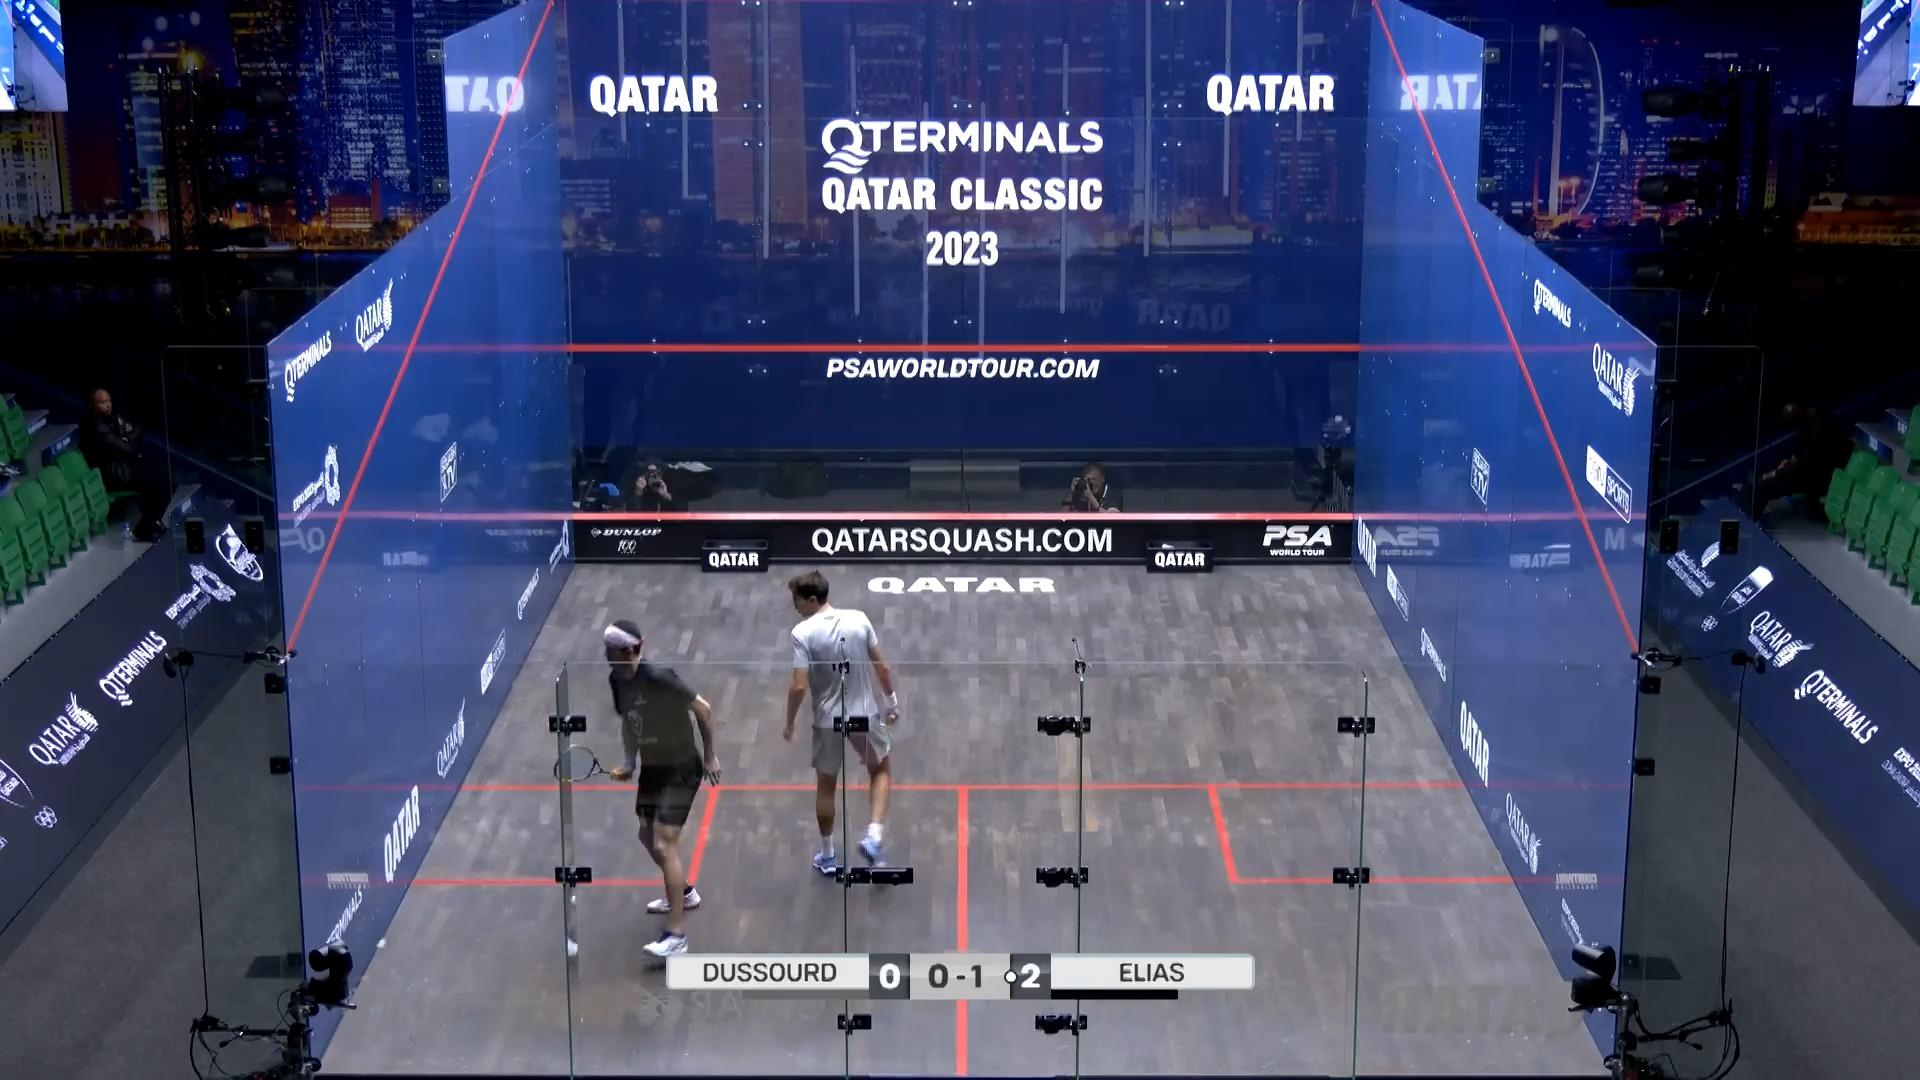Racket: (547, 736, 615, 796)
